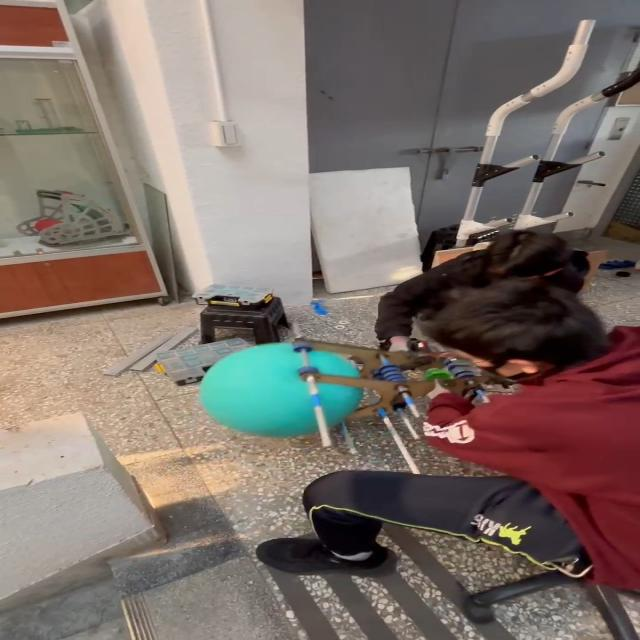ALGAE: (196, 341, 364, 438)
